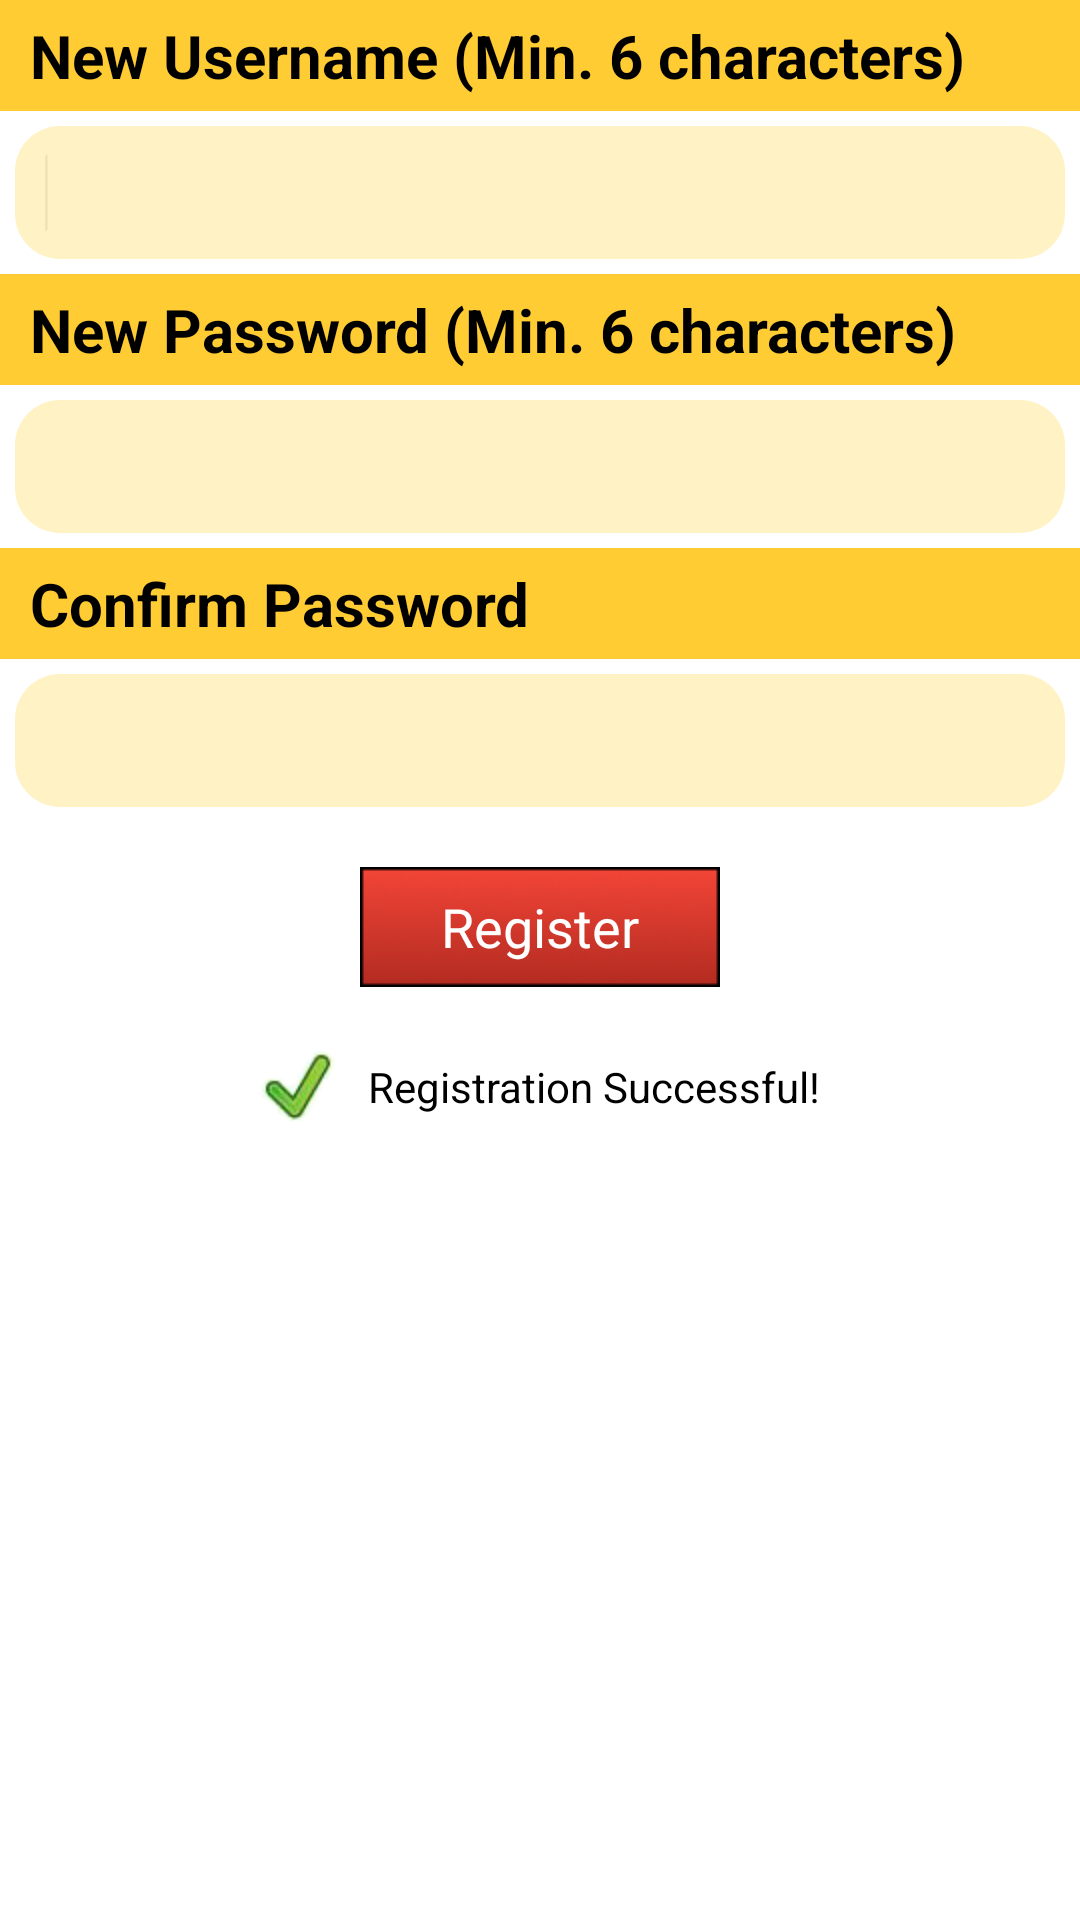

Icon click points for this 1080w x 1920h phone screenshot, format (x,y):
checkmark: (298,1086)
